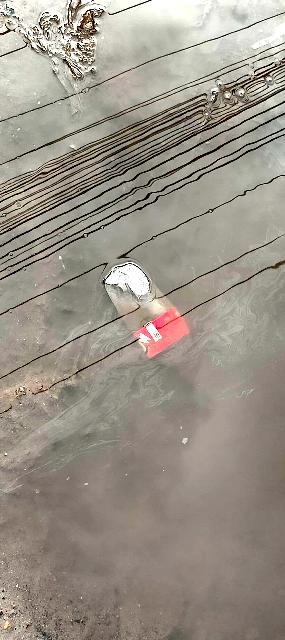bottle: (103, 255, 209, 376)
